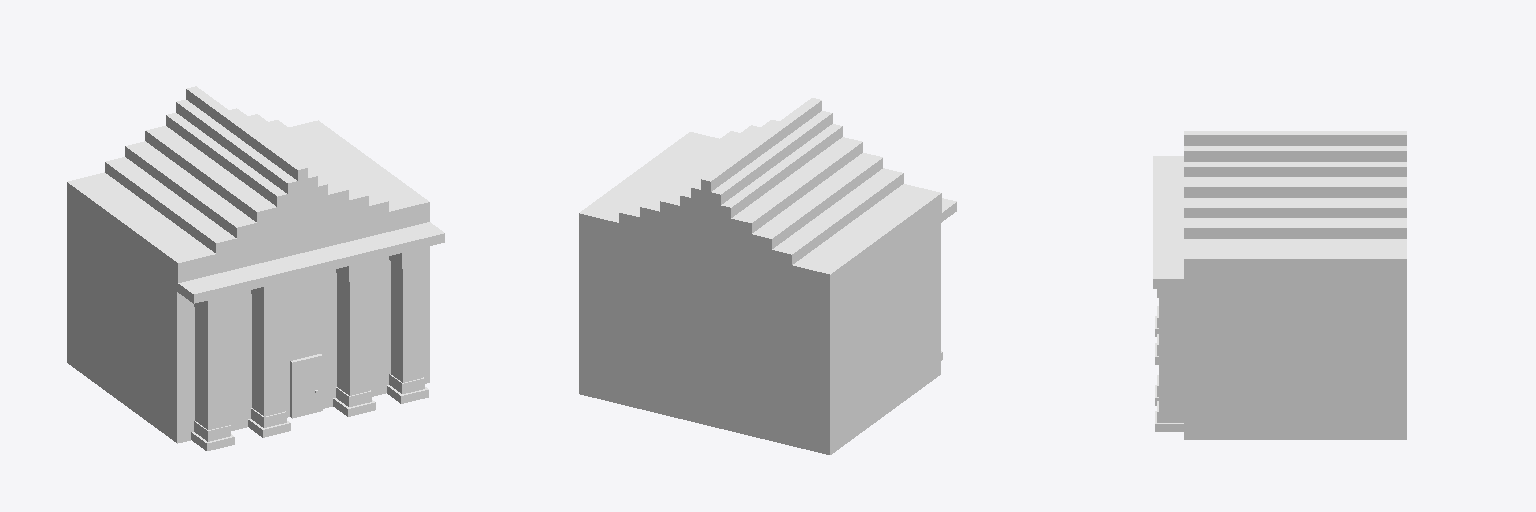
The model's file is bankola.obj.
3 renders of one model, left to right at view 1: azimuth 30°, elevation 25°; view 2: azimuth 150°, elevation 25°; view 3: azimuth 270°, elevation 25°, orthographic.
Visible parts, largest first — view 1: object 1; view 2: object 1; view 3: object 1.
Part boxes in pixels (x1,y1,x2,y2): object 1: (67, 86, 444, 450); object 1: (579, 98, 956, 454); object 1: (1153, 131, 1406, 439).
Size of the model in its own units: 19.8 by 18.4 by 17.3.